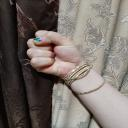Fist: (27, 28, 86, 79)
